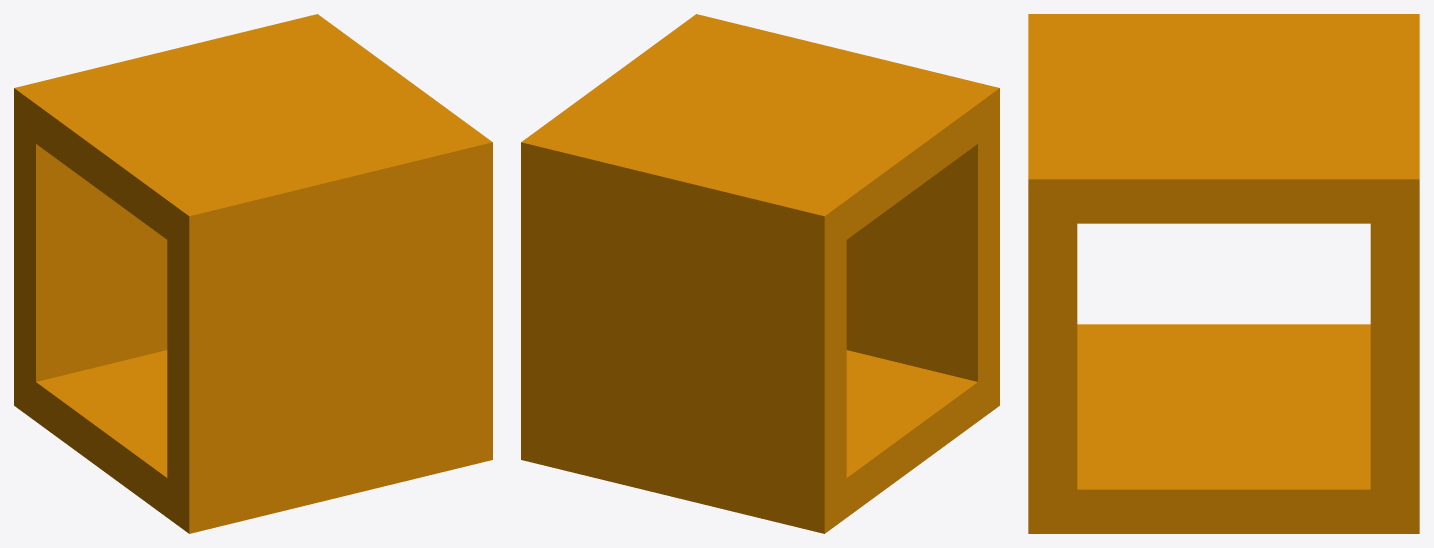
3 renders of one model, left to right at view 1: azimuth 30°, elevation 25°; view 2: azimuth 150°, elevation 25°; view 3: azimuth 270°, elevation 25°, orthographic. The views are drawn at different scales.
Parts seen in each view (by area): view 1: Cube; view 2: Cube; view 3: Cube.
Part boxes in pixels (left/top/right/bottom): Cube: left=14, top=14, right=492, bottom=533; Cube: left=521, top=14, right=999, bottom=533; Cube: left=1028, top=14, right=1419, bottom=533.
Bounding box in the file's own units: 2 × 2 × 2.
